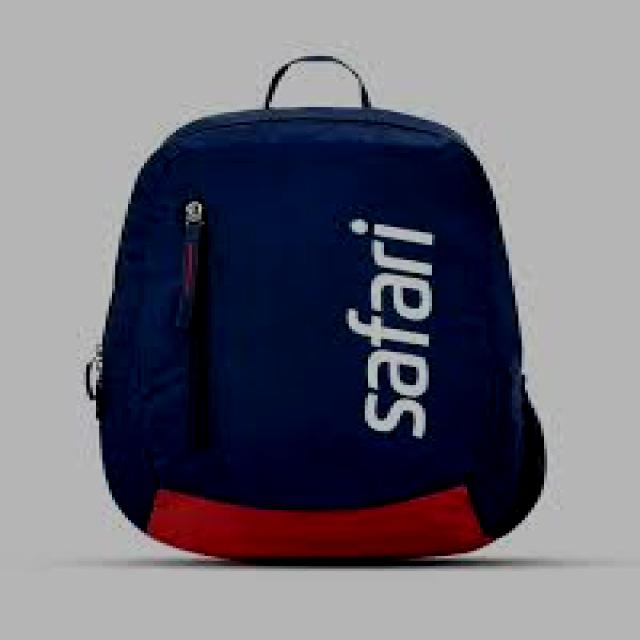backpack: (84, 55, 548, 563)
